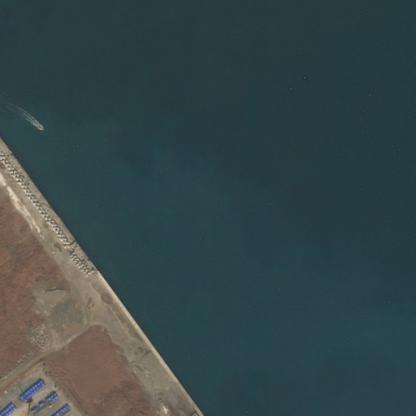ship: (40, 127, 42, 130)
